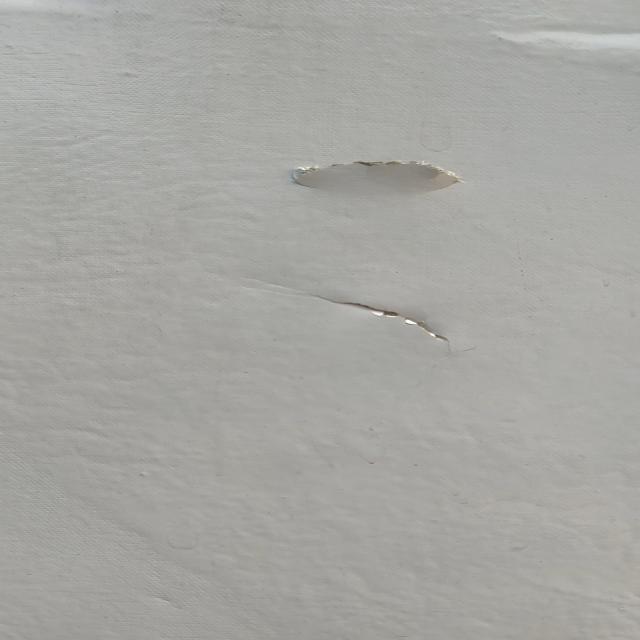Scratches: (274, 264, 511, 369), (284, 139, 470, 211)
